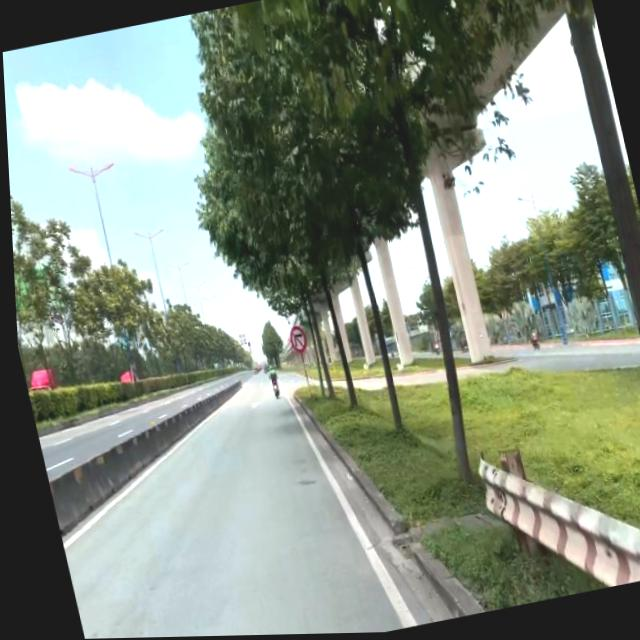Cam re phai: (283, 325, 305, 356)
